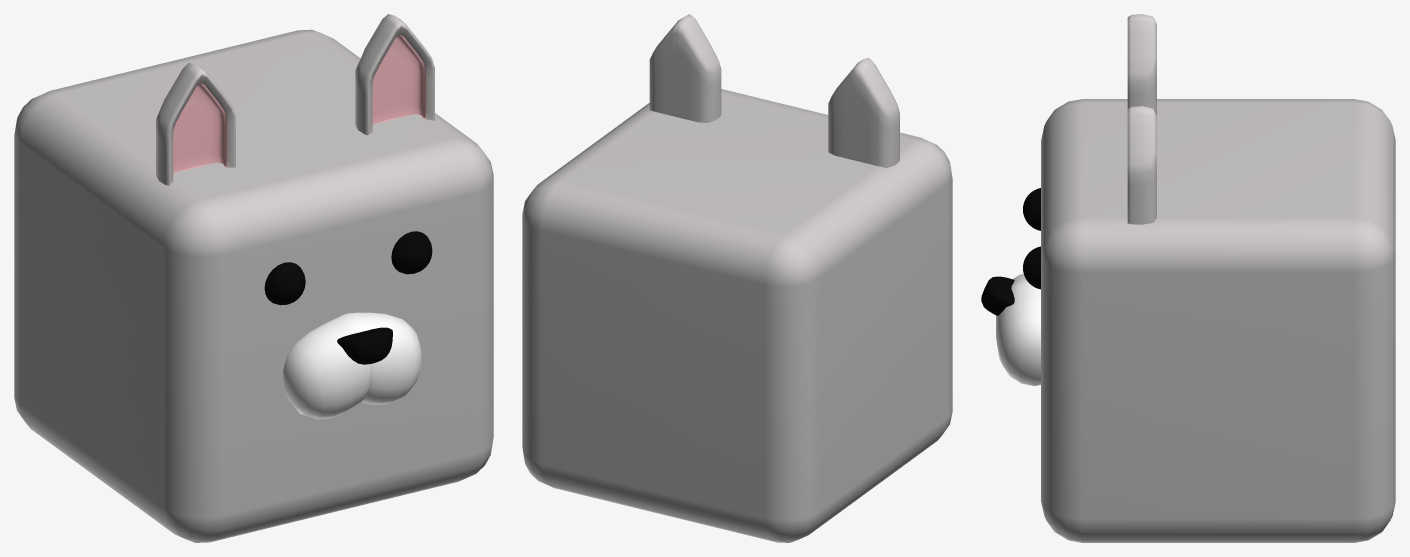
Rendered from Wolf.fbx.
3 renders of one model, left to right at view 1: azimuth 30°, elevation 25°; view 2: azimuth 150°, elevation 25°; view 3: azimuth 270°, elevation 25°, orthographic. The views are drawn at different scales.
Visible parts, largest first — view 1: Wolf; view 2: Wolf; view 3: Wolf.
Boxes of the visible parts, x1=… form: Wolf: x1=14, y1=14, x2=493, y2=542; Wolf: x1=522, y1=14, x2=952, y2=542; Wolf: x1=981, y1=14, x2=1395, y2=542.
Bounding box in the file's own units: 1 × 1.31 × 1.17.
